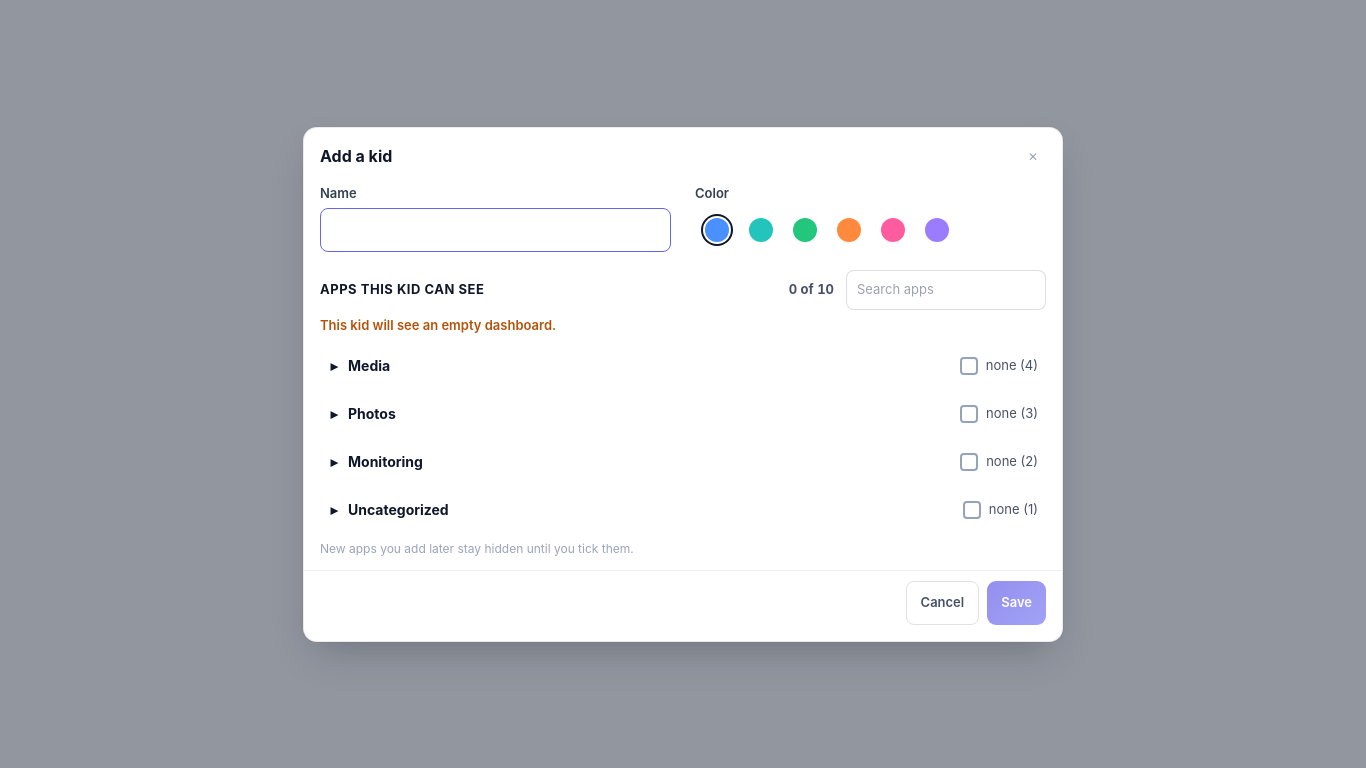
Scenario: Add a kid (UX §3) › any other failure is a general error
Expected: the element with test id "kid-checklist" is shown, [320, 344, 1046, 532]
Type "Leo" into the field labelled "Name" at (496, 230), box [320, 208, 671, 252]
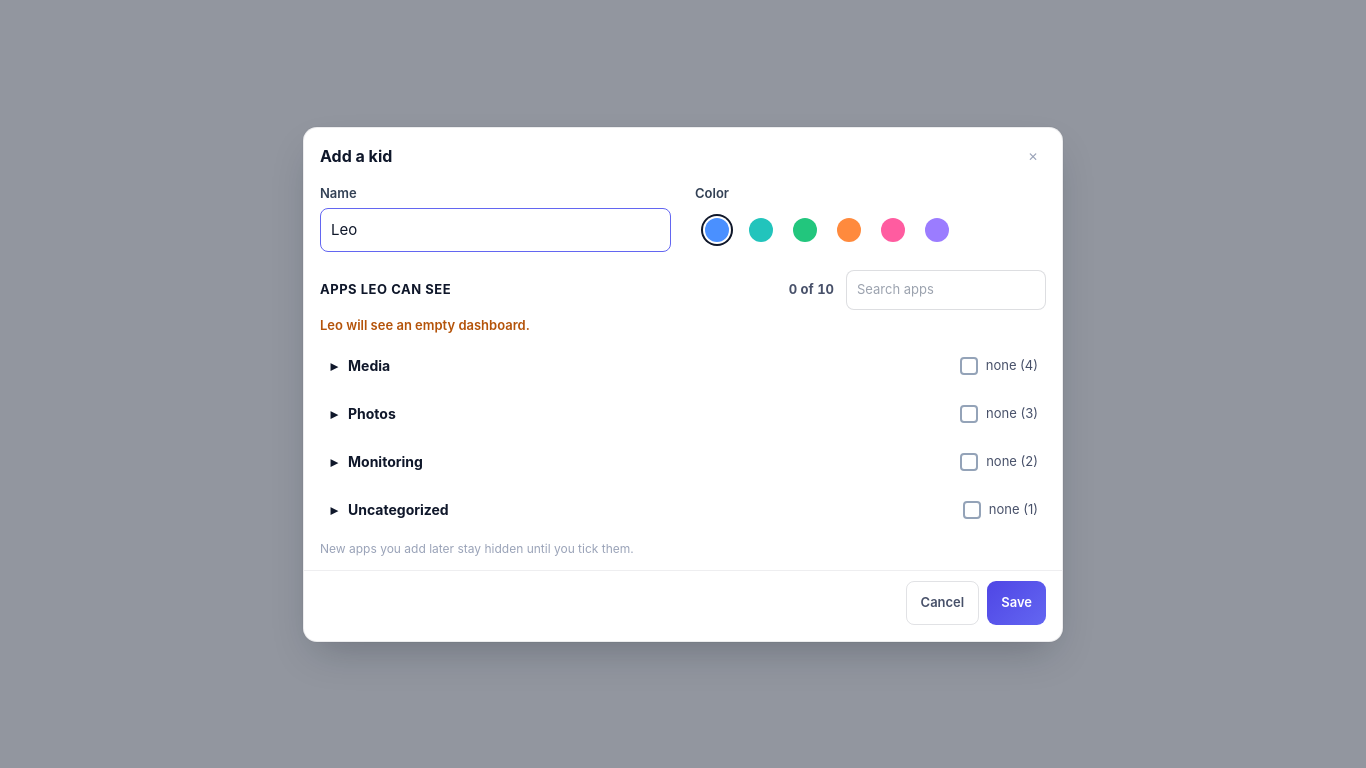
Click the button "Save" at (1017, 602), box [987, 580, 1046, 624]
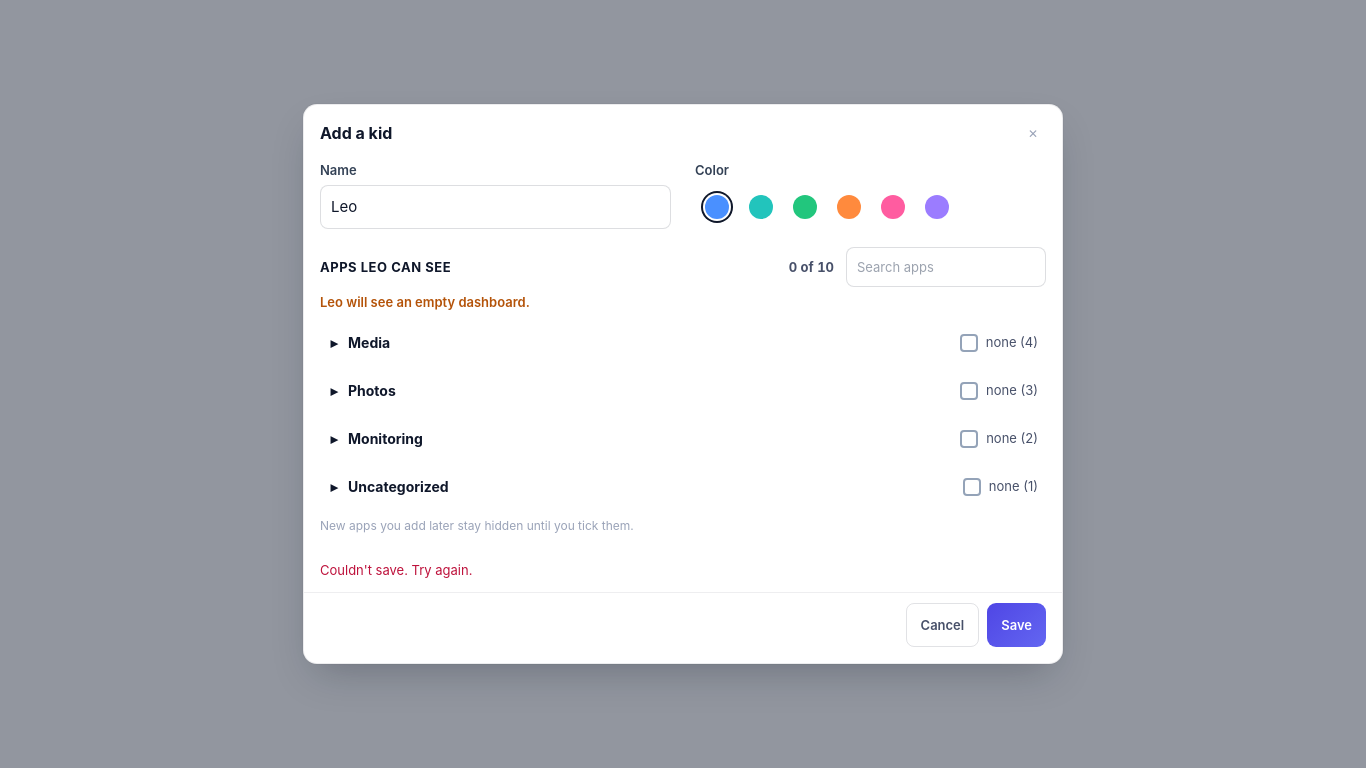
Expected: the message reads "Couldn't save. Try again.", [320, 562, 472, 578]
